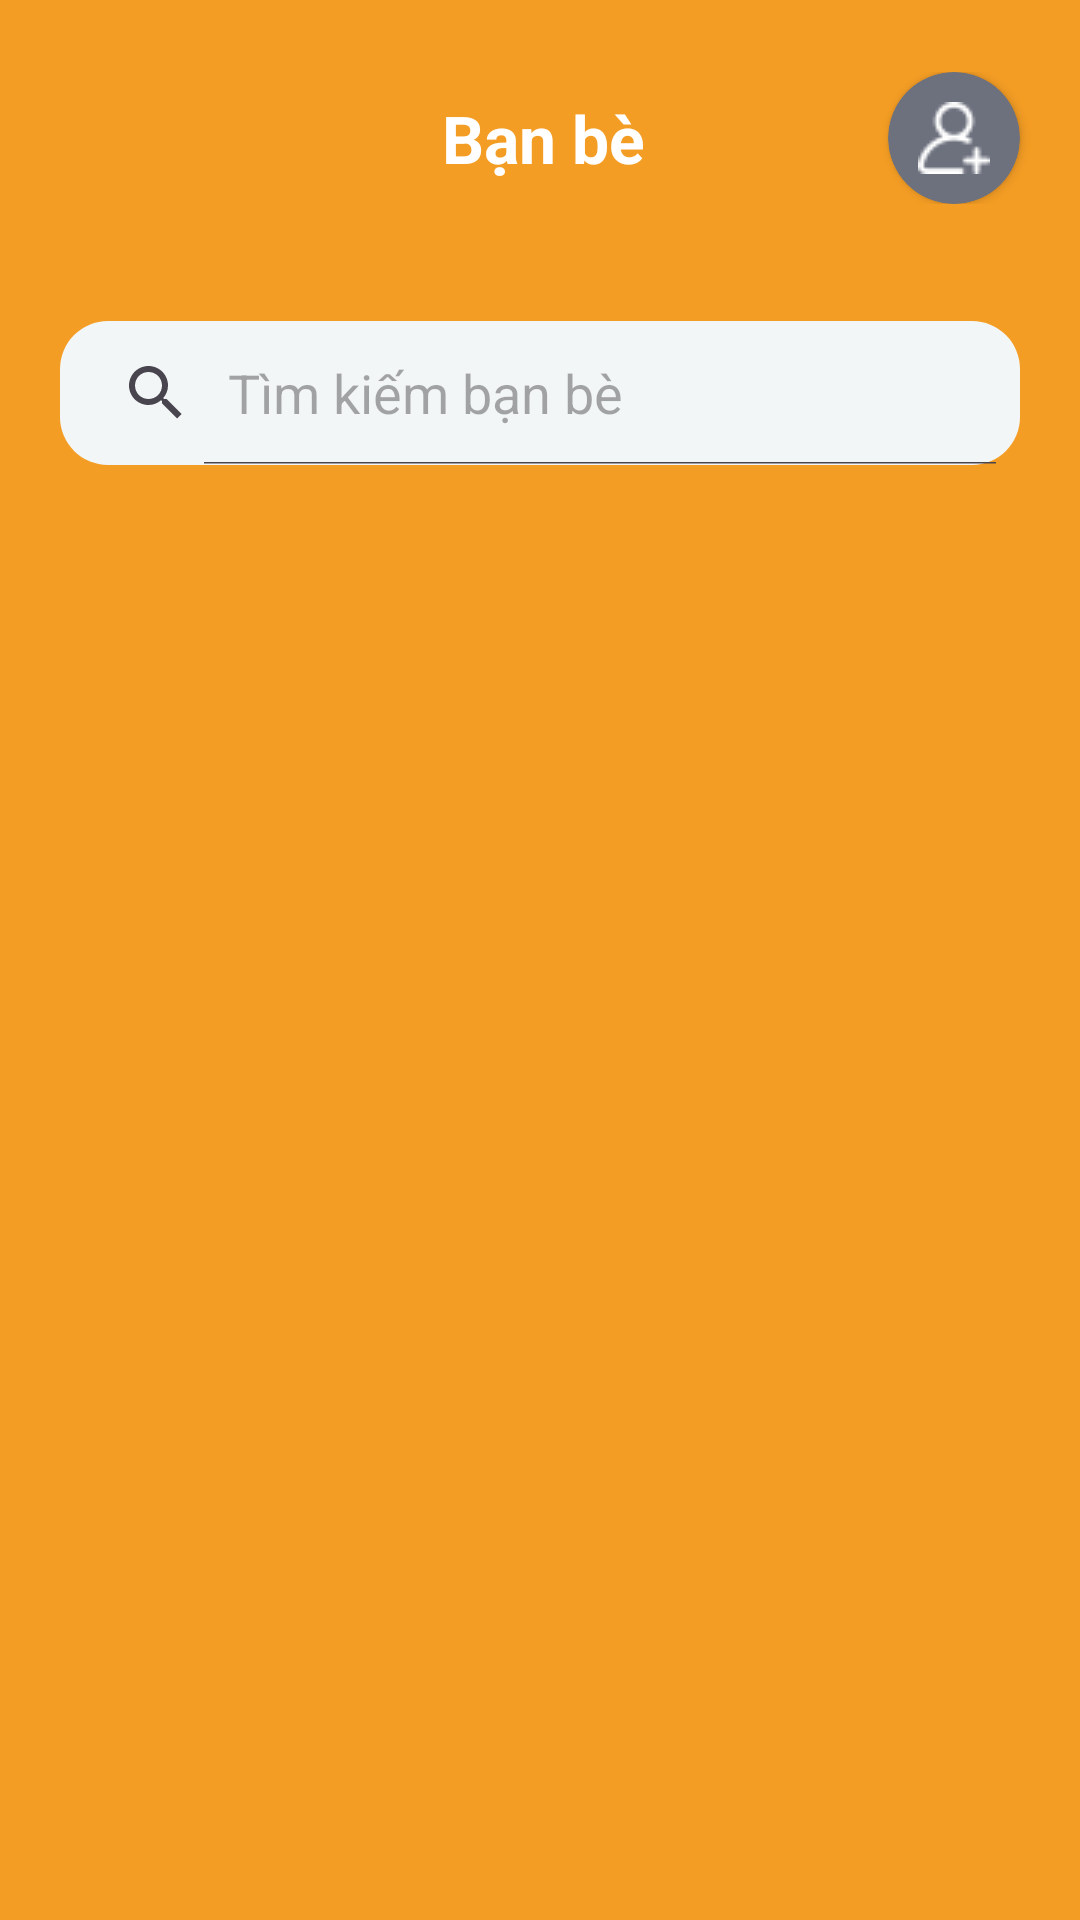

Screen size 1080*1920. Icon name, then its center in pixels as [x,y]:
add friend: [954,138]
